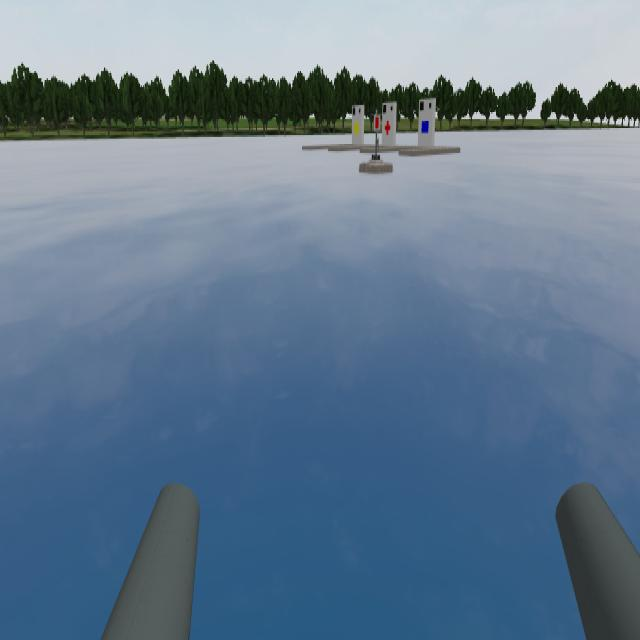red_pole: (368, 107, 384, 137)
